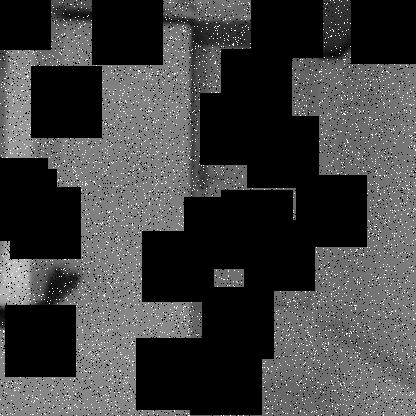Porte: (190, 43, 322, 312)
